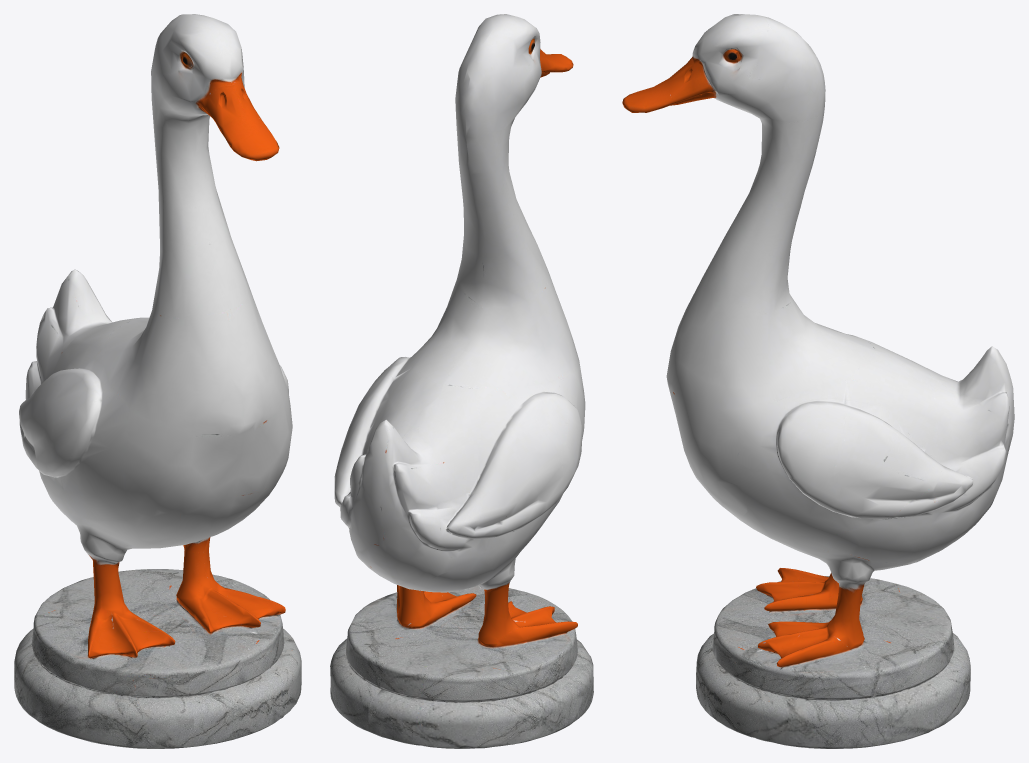
File: co_duck.glb
3 views of the same model, side by side, from view 1: azimuth 30°, elevation 25°; view 2: azimuth 150°, elevation 25°; view 3: azimuth 270°, elevation 25° (orthographic). The views are drawn at different scales.
Bounding box in the file's own units: 0.7055 × 1.9 × 1.
1 material, 1 textured.
